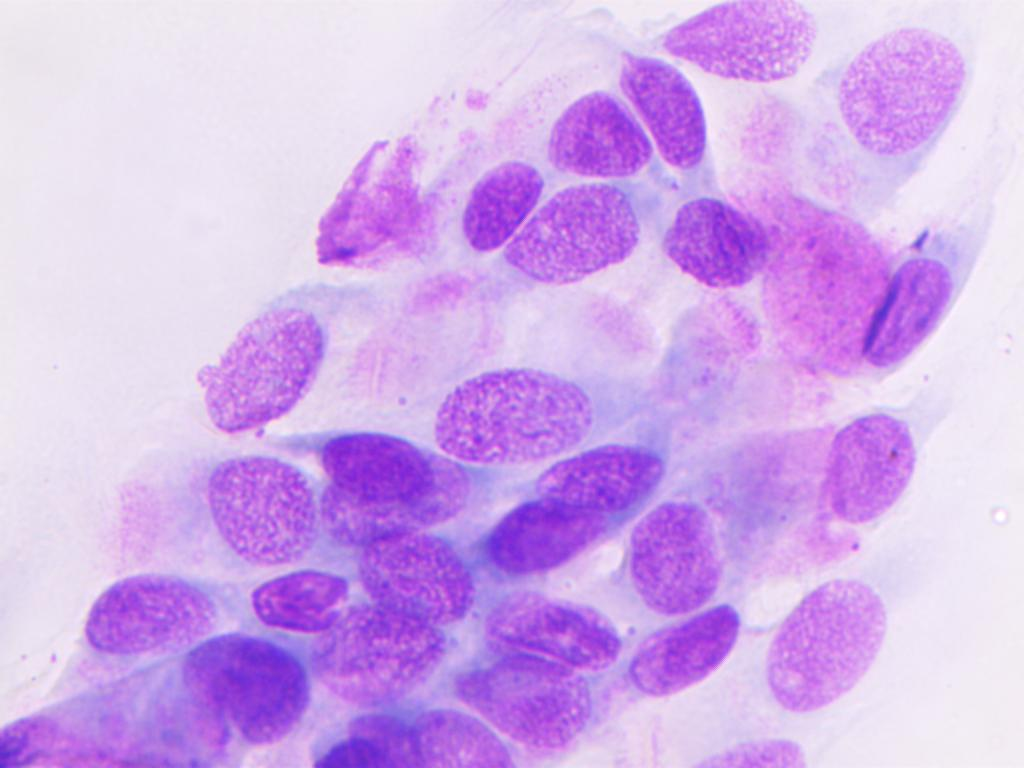artifact: (312, 110, 448, 277)
epithelial: (825, 11, 991, 191), (175, 281, 370, 432), (76, 454, 320, 571), (755, 570, 900, 732), (314, 434, 478, 541), (316, 592, 470, 703), (502, 183, 660, 287), (426, 364, 591, 462), (182, 626, 311, 747), (465, 643, 604, 755), (608, 34, 717, 176), (658, 0, 827, 82), (629, 606, 743, 725), (484, 578, 620, 673), (620, 501, 732, 615), (661, 180, 772, 294), (70, 565, 219, 649), (440, 155, 553, 263), (822, 405, 922, 526), (362, 528, 475, 628), (473, 490, 614, 569), (549, 81, 653, 188), (529, 446, 677, 505), (246, 566, 355, 633)
goblet_cell: (804, 220, 954, 362)
